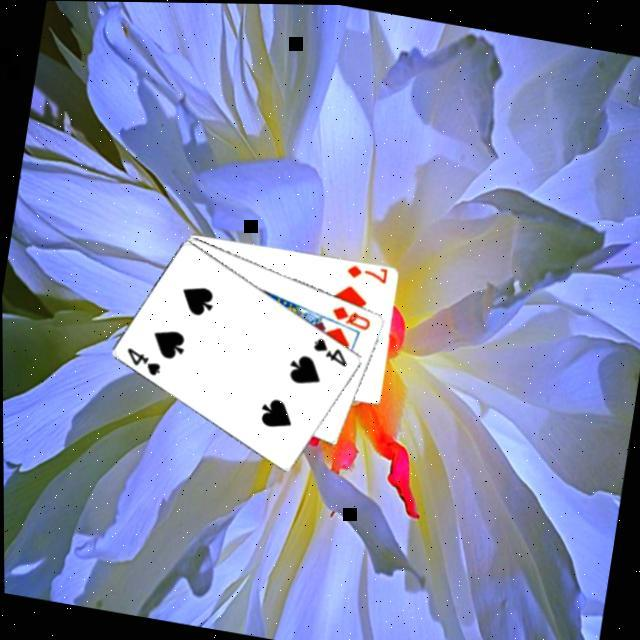4S: (309, 331, 355, 368), (122, 342, 168, 378)
7D: (344, 257, 392, 284)
QD: (328, 298, 377, 332)
